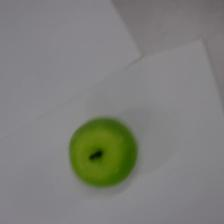green: (69, 118, 137, 186)
